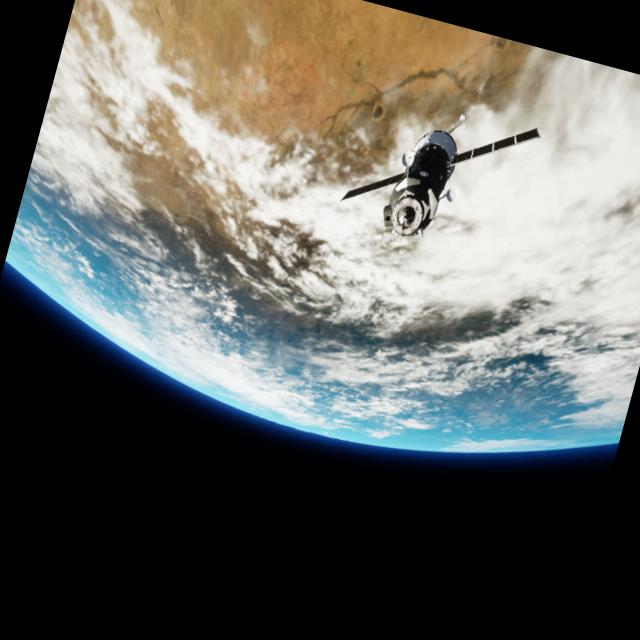Satellites revolving around earth: (0, 0, 640, 510), (332, 79, 544, 268)
